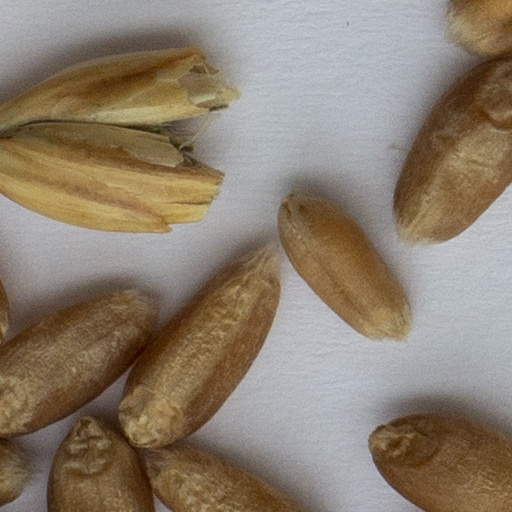Peel-poly: (0, 46, 236, 232)
